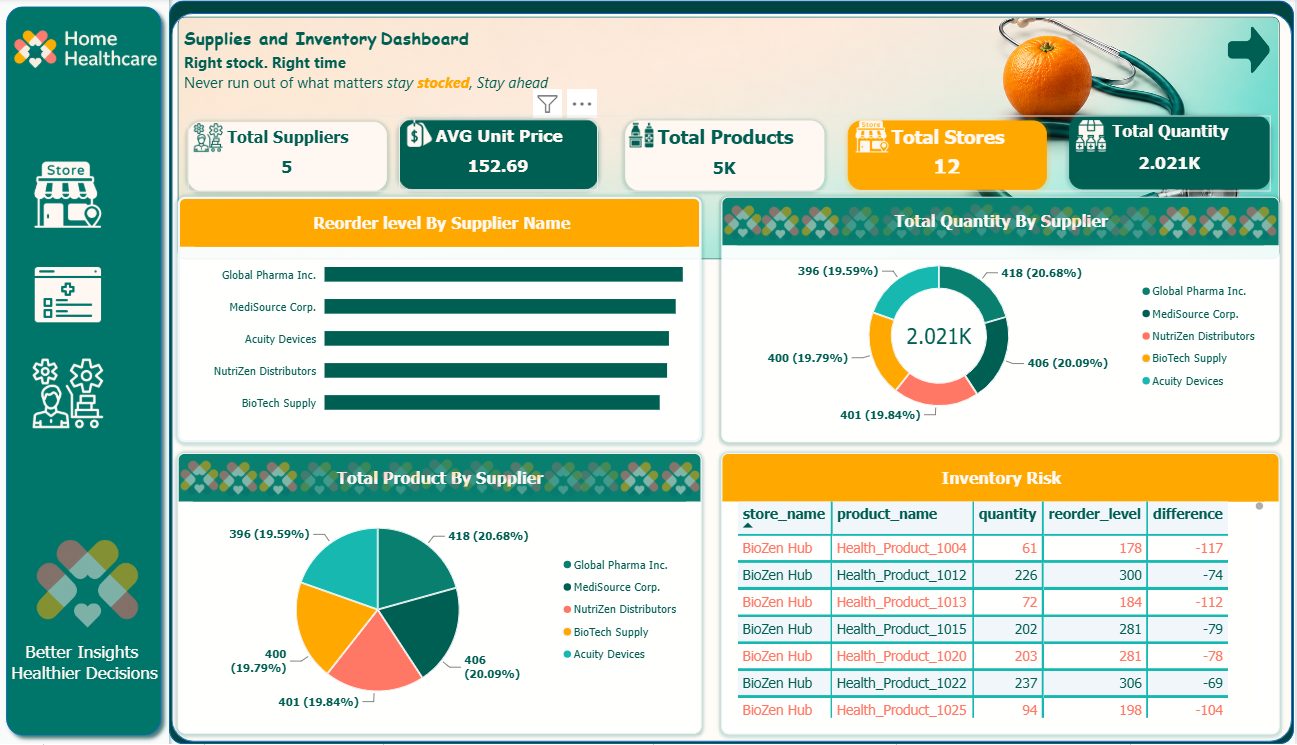

What the dashboard file says about the page in this screenshot:
{"tool":"powerbi","page":{"name":"Supplies & Inventory Dashboard","canvas":[1400,800],"ordinal":3},"visuals":[{"type":"shape","box":[193,2.7,1206.4,797.6],"z":0},{"type":"cardVisual","title":"Total Quantity ","fields":{"Data":["CountNonNull(healthcare_db_enhanced vw_supplies_inventory.quantity)"]},"box":[1158.2,125.7,216.1,79.3],"z":0,"group":"g12"},{"type":"donutChart","title":"Total Quantity By Supplier","fields":{"Category":["healthcare_db_enhanced vw_supplies_inventory.supplier_name"],"Y":["CountNonNull(healthcare_db_enhanced vw_supplies_inventory.quantity)"]},"box":[785.7,212.9,598.6,262.9],"z":0,"group":"g11"},{"type":"group","id":"g1","title":"Group 2","box":[787.7,217,466.1,45.5],"z":0,"group":"g4"},{"type":"group","id":"g2","title":"Group 2","box":[204.3,485.7,472,58.5],"z":0,"group":"g9"},{"type":"shape","box":[195.7,15.7,1201.4,781.4],"z":1000},{"type":"group","id":"g3","title":"Group 8","box":[439.8,129.7,213.3,76.1],"z":1000,"group":"g12"},{"type":"group","id":"g4","title":"Group 3","box":[787.7,217,595.8,45.6],"z":1000,"group":"g11"},{"type":"image","box":[1340.4,219.4,43.1,43.2],"z":1000,"group":"g4"},{"type":"image","box":[202.9,20,1181.4,260],"z":2000},{"type":"group","id":"g5","title":"Group 9","box":[676.3,130.5,218.9,75.5],"z":2000,"group":"g12"},{"type":"image","box":[1297.1,219.4,43.1,43.2],"z":2000,"group":"g4"},{"type":"pieChart","title":"Total Product By Supplier ","fields":{"Category":["healthcare_db_enhanced vw_supplies_inventory.supplier_name"],"Y":["CountNonNull(healthcare_db_enhanced vw_supplies_inventory.products_count)"]},"box":[202.4,487.9,561.3,300.7],"z":2000,"group":"g10"},{"type":"image","box":[720.2,488.8,43.6,55.5],"z":2000,"group":"g9"},{"type":"group","id":"g6","title":"Group 10","box":[920.3,130,213.3,75.1],"z":3000,"group":"g12"},{"type":"cardVisual","title":"Total Products","fields":{"Data":["Count(healthcare_db_enhanced vw_product_dashboard.product_id)"]},"box":[681.8,130.5,213.4,75.5],"z":3000,"group":"g5"},{"type":"image","box":[1253.8,219.4,43.1,43.2],"z":3000,"group":"g4"},{"type":"tableEx","title":"Inventory Risk","fields":{"Values":["healthcare_db_enhanced vw_supplies_inventory.store_name","healthcare_db_enhanced vw_supplies_inventory.product_name","healthcare_db_enhanced vw_supplies_inventory.quantity","healthcare_db_enhanced vw_supplies_inventory.reorder_level","healthcare_db_enhanced vw_supplies_inventory.difference"]},"box":[785.7,488.6,598.6,301.4],"z":3000},{"type":"image","box":[676.3,488.8,43.6,55.5],"z":3000,"group":"g9"},{"type":"group","id":"g7","title":"Group 1","box":[10,0,185.7,800],"z":4000},{"type":"group","id":"g8","title":"Group 11","box":[212.9,132.8,213.3,74.4],"z":4000,"group":"g12"},{"type":"group","id":"g9","title":"Group 3","box":[204.3,485.7,559.5,58.6],"z":4005,"group":"g10"},{"type":"barChart","title":"Reorder level By Supplier Name","fields":{"Category":["healthcare_db_enhanced vw_supplies_inventory.supplier_name"],"Y":["Sum(healthcare_db_enhanced vw_supplies_inventory.reorder_level)"]},"box":[202.9,212.9,561.4,262.9],"z":5000},{"type":"group","id":"g10","title":"Group 6","box":[202.4,485.7,561.4,302.9],"z":6000},{"type":"cardVisual","title":"AVG Unit Price","fields":{"Data":["Avg(healthcare_db_enhanced vw_product_dashboard.unit_price)"]},"box":[439.8,130.3,213.3,75.5],"z":6500,"group":"g3"},{"type":"group","id":"g11","title":"Group 7","box":[785.7,212.9,598.6,262.9],"z":7000},{"type":"group","id":"g12","title":"Group 12","box":[212.9,125.7,1161.4,81.4],"z":8000},{"type":"image","box":[440.3,129.7,44.3,29.3],"z":8000,"group":"g3"},{"type":"image","box":[1157.1,128.6,50,38.6],"z":9000},{"type":"image","box":[676.3,132.2,44.3,28.8],"z":9000,"group":"g5"},{"type":"image","box":[787.7,218.1,43.1,43.2],"z":9000,"group":"g1"},{"type":"image","box":[204.3,487.2,43.6,55.5],"z":9000,"group":"g2"},{"type":"shape","box":[10,0,184.3,800],"z":10000,"group":"g7"},{"type":"image","box":[828.2,219.3,43.1,43.2],"z":10000,"group":"g1"},{"type":"image","box":[245.3,488.6,43.6,55.5],"z":10000,"group":"g2"},{"type":"image","box":[871.3,219.3,43.1,43.2],"z":11000,"group":"g1"},{"type":"image","box":[289,488.6,43.6,55.5],"z":11000,"group":"g2"},{"type":"image","box":[38.2,570,136.7,119.3],"z":11000,"group":"g13"},{"type":"image","box":[15.4,0,174.3,109.9],"z":12000,"group":"g7"},{"type":"image","box":[914.4,219.3,43.1,43.2],"z":12000,"group":"g1"},{"type":"image","box":[332.6,488.6,43.6,55.5],"z":12000,"group":"g2"},{"type":"image","box":[957.4,219.3,43.1,43.2],"z":13000,"group":"g1"},{"type":"image","box":[376.2,488.6,43.6,55.5],"z":13000,"group":"g2"},{"type":"image","box":[1000.5,219.3,43.1,43.2],"z":14000,"group":"g1"},{"type":"image","box":[419.8,488.6,43.6,55.5],"z":14000,"group":"g2"},{"type":"group","id":"g13","title":"Group 5","box":[11.4,570,184.3,194.3],"z":14000,"group":"g7"},{"type":"textbox","box":[11.4,689.3,183.6,75.1],"z":14001,"group":"g14"},{"type":"cardVisual","title":"Total Stores","fields":{"Data":["Count(healthcare_db_enhanced vw_supplies_inventory.store_id)"]},"box":[920.3,130.7,213.3,74.4],"z":15000,"group":"g6"},{"type":"image","box":[1043.6,217,43.1,43.2],"z":15000,"group":"g1"},{"type":"image","box":[463.4,485.7,43.6,55.5],"z":15000,"group":"g2"},{"type":"group","id":"g14","title":"Group 4","box":[11.4,689.3,183.6,75.1],"z":15000,"group":"g13"},{"type":"image","box":[924.4,130,44.3,37.2],"z":16000,"group":"g6"},{"type":"image","title":"Image store 2","box":[36.7,172.4,96.4,76],"z":16000},{"type":"image","box":[1086.6,218.1,43.1,43.2],"z":16000,"group":"g1"},{"type":"image","box":[507,487.2,43.6,55.5],"z":16000,"group":"g2"},{"type":"cardVisual","title":"Total Suppliers","fields":{"Data":["Count(healthcare_db_enhanced vw_supplies_inventory.supplier_id)"]},"box":[212.9,132.8,213.3,74.4],"z":17000,"group":"g8"},{"type":"image","box":[1129.7,219.3,43.1,43.2],"z":17000,"group":"g1"},{"type":"image","title":"Image category 2 ","box":[36.7,279.7,97,76],"z":17000},{"type":"image","box":[550.6,488.6,43.6,55.5],"z":17000,"group":"g2"},{"type":"image","box":[212.9,134.5,44.3,31.6],"z":18000,"group":"g8"},{"type":"image","box":[1172.8,219.3,43.1,43.2],"z":18000,"group":"g1"},{"type":"image","title":"Image supplier 2","box":[36.7,385.6,97,76],"z":18000},{"type":"image","box":[594.3,488.6,43.6,55.5],"z":18000,"group":"g2"},{"type":"textbox","box":[208.6,23.5,778.8,103.2],"z":19000},{"type":"image","box":[1210.8,219.3,43.1,43.2],"z":19000,"group":"g1"},{"type":"image","box":[632.7,488.6,43.6,55.5],"z":19000,"group":"g2"},{"type":"shape","box":[1328.4,28.2,46.9,55],"z":20000}]}

Visuals, with their boxes in screenshot pixels (x1, y1, x2, y2), scaled from the page's 1400x800 canvas onto the 1297x745 screenshot:
shape: <region>179, 3, 1296, 744</region>
"Total Quantity " cardVisual: <region>1073, 117, 1273, 191</region>
"Total Quantity By Supplier" donutChart: <region>728, 198, 1282, 443</region>
"Group 2" group: <region>730, 202, 1162, 244</region>
"Group 2" group: <region>189, 452, 627, 507</region>
shape: <region>181, 15, 1294, 742</region>
"Group 8" group: <region>407, 121, 605, 192</region>
"Group 3" group: <region>730, 202, 1282, 245</region>
image: <region>1242, 204, 1282, 245</region>
image: <region>188, 19, 1282, 261</region>
"Group 9" group: <region>627, 122, 829, 192</region>
image: <region>1202, 204, 1242, 245</region>
"Total Product By Supplier " pieChart: <region>188, 454, 708, 734</region>
image: <region>667, 455, 708, 507</region>
"Group 10" group: <region>853, 121, 1050, 191</region>
"Total Products" cardVisual: <region>632, 122, 829, 192</region>
image: <region>1162, 204, 1201, 245</region>
"Inventory Risk" tableEx: <region>728, 455, 1282, 736</region>
image: <region>627, 455, 667, 507</region>
"Group 1" group: <region>9, 0, 181, 744</region>
"Group 11" group: <region>197, 124, 395, 193</region>
"Group 3" group: <region>189, 452, 708, 507</region>
"Reorder level By Supplier Name" barChart: <region>188, 198, 708, 443</region>
"Group 6" group: <region>188, 452, 708, 734</region>
"AVG Unit Price" cardVisual: <region>407, 121, 605, 192</region>
"Group 7" group: <region>728, 198, 1282, 443</region>
"Group 12" group: <region>197, 117, 1273, 193</region>
image: <region>408, 121, 449, 148</region>
image: <region>1072, 120, 1118, 156</region>
image: <region>627, 123, 668, 150</region>
image: <region>730, 203, 770, 243</region>
image: <region>189, 454, 230, 505</region>
shape: <region>9, 0, 180, 744</region>
image: <region>767, 204, 807, 244</region>
image: <region>227, 455, 268, 507</region>
image: <region>807, 204, 847, 244</region>
image: <region>268, 455, 308, 507</region>
image: <region>35, 531, 162, 642</region>
image: <region>14, 0, 176, 102</region>
image: <region>847, 204, 887, 244</region>
image: <region>308, 455, 349, 507</region>
image: <region>887, 204, 927, 244</region>
image: <region>349, 455, 389, 507</region>
image: <region>927, 204, 967, 244</region>
image: <region>389, 455, 429, 507</region>
"Group 5" group: <region>11, 531, 181, 712</region>
textbox: <region>11, 642, 181, 712</region>
"Total Stores" cardVisual: <region>853, 122, 1050, 191</region>
image: <region>967, 202, 1007, 242</region>
image: <region>429, 452, 470, 504</region>
"Group 4" group: <region>11, 642, 181, 712</region>
image: <region>856, 121, 897, 156</region>
"Image store 2" image: <region>34, 161, 123, 231</region>
image: <region>1007, 203, 1047, 243</region>
image: <region>470, 454, 510, 505</region>
"Total Suppliers" cardVisual: <region>197, 124, 395, 193</region>
image: <region>1047, 204, 1087, 244</region>
"Image category 2 " image: <region>34, 260, 124, 331</region>
image: <region>510, 455, 550, 507</region>
image: <region>197, 125, 238, 155</region>
image: <region>1087, 204, 1126, 244</region>
"Image supplier 2" image: <region>34, 359, 124, 430</region>
image: <region>551, 455, 591, 507</region>
textbox: <region>193, 22, 915, 118</region>
image: <region>1122, 204, 1162, 244</region>
image: <region>586, 455, 627, 507</region>
shape: <region>1231, 26, 1274, 77</region>
